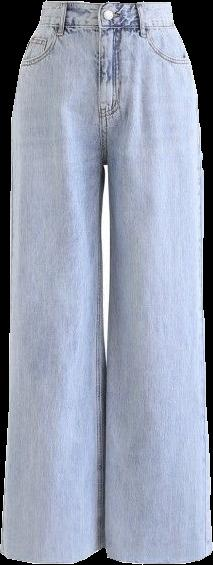Hemline: (0, 544, 108, 564), (104, 548, 212, 564)
Pantleg: (97, 2, 211, 562), (1, 1, 106, 562)
Waistline: (36, 17, 174, 29), (41, 0, 172, 10)
